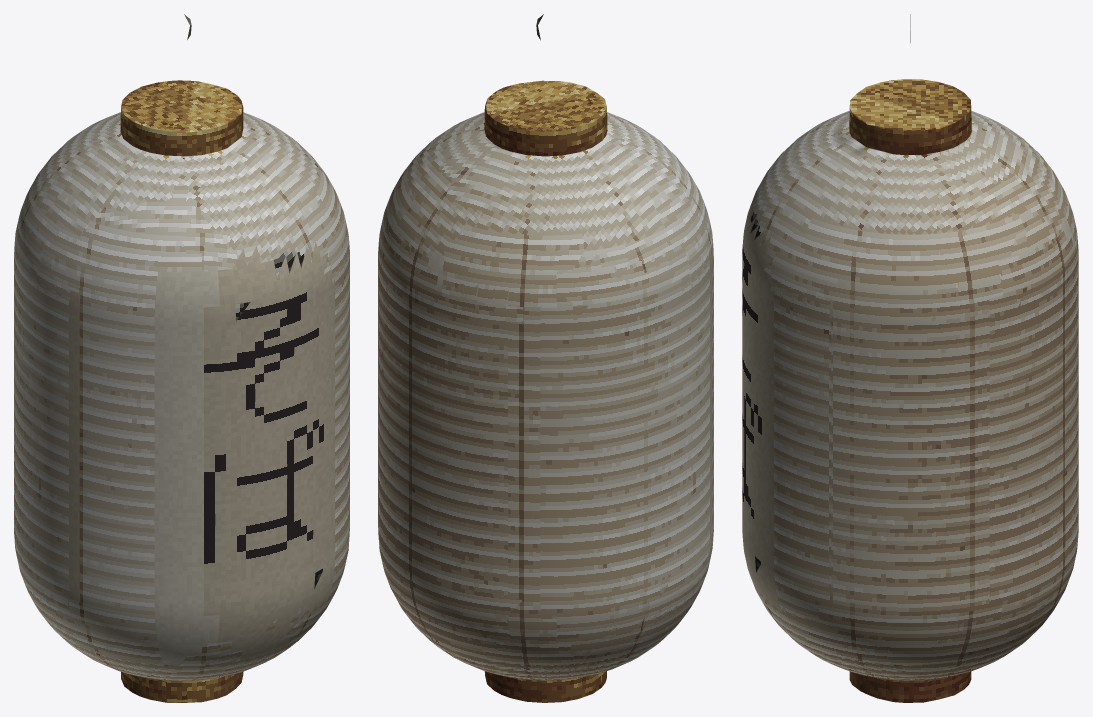
Rendered from lantern_paper.glb.
The picture shows the model from 3 angles, left to right: view 1: azimuth 30°, elevation 25°; view 2: azimuth 150°, elevation 25°; view 3: azimuth 270°, elevation 25°; orthographic projection.
Visible parts, largest first — view 1: mesh; view 2: mesh; view 3: mesh.
Part boxes in pixels (box(x1,y1,x2,y2)): mesh: box(14, 14, 349, 702); mesh: box(378, 14, 713, 702); mesh: box(742, 14, 1078, 702).
Bounding box in the file's own units: 0.1837 × 0.4 × 0.1837.
Materials: 1 (1 with a texture image).
